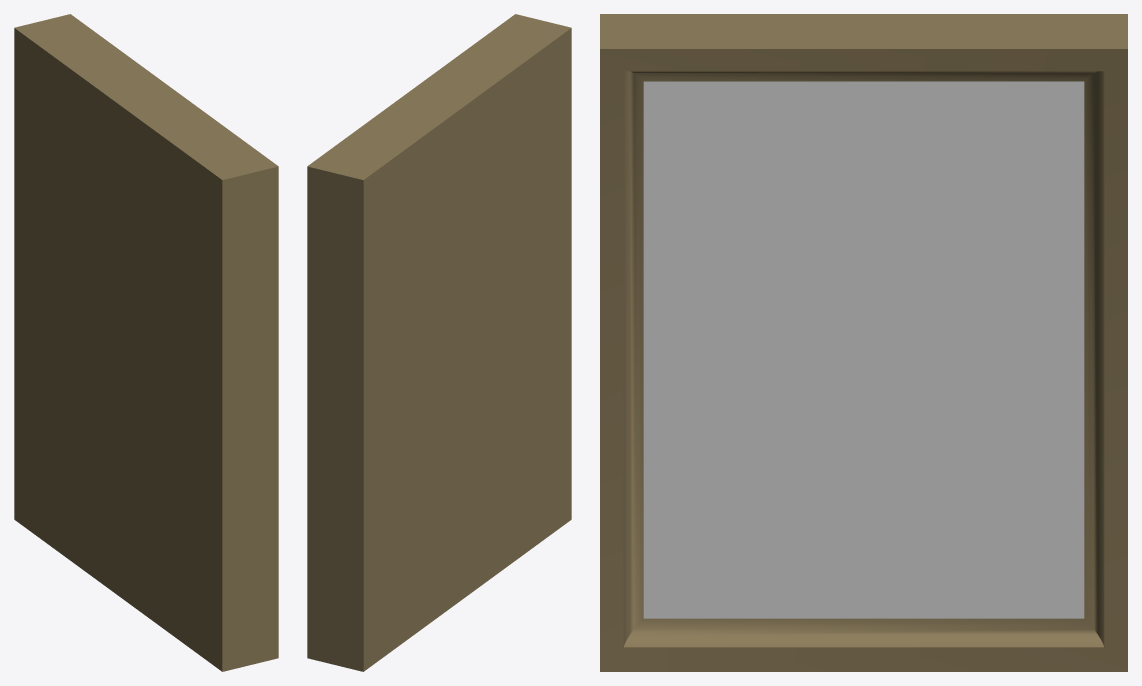
File: Photo Frame02.fbx
3 renders of one model, left to right at view 1: azimuth 30°, elevation 25°; view 2: azimuth 150°, elevation 25°; view 3: azimuth 270°, elevation 25°, orthographic. The views are drawn at different scales.
Visible parts, largest first — view 1: Picture Frame - 4 Shells in the Sand; view 2: Picture Frame - 4 Shells in the Sand; view 3: Picture Frame - 4 Shells in the Sand.
Part boxes in pixels (<box>): Picture Frame - 4 Shells in the Sand: <box>14,14,278,671</box>; Picture Frame - 4 Shells in the Sand: <box>307,14,571,671</box>; Picture Frame - 4 Shells in the Sand: <box>600,14,1127,671</box>.
Size of the model in its own units: 16.31 by 136 by 104.
